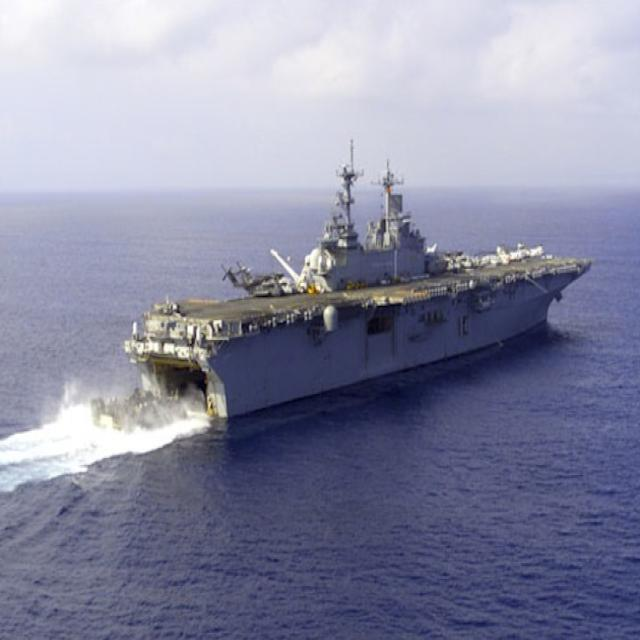navalvessels: (131, 107, 590, 431)
